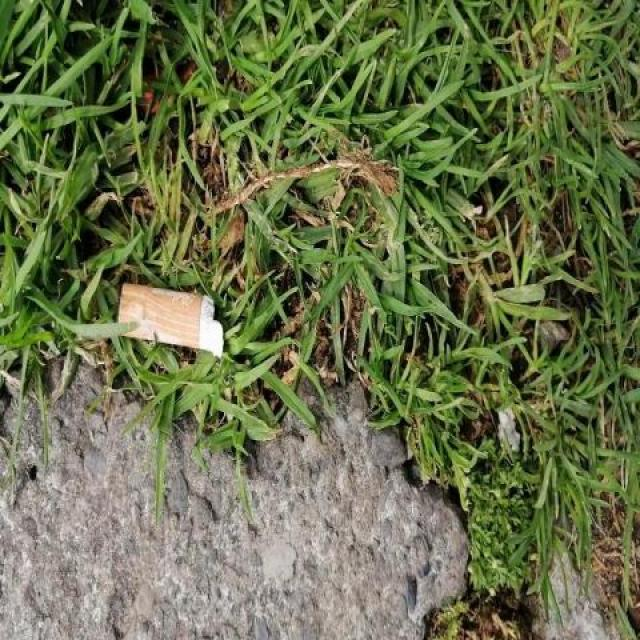non-organic waste: (114, 276, 225, 361)
